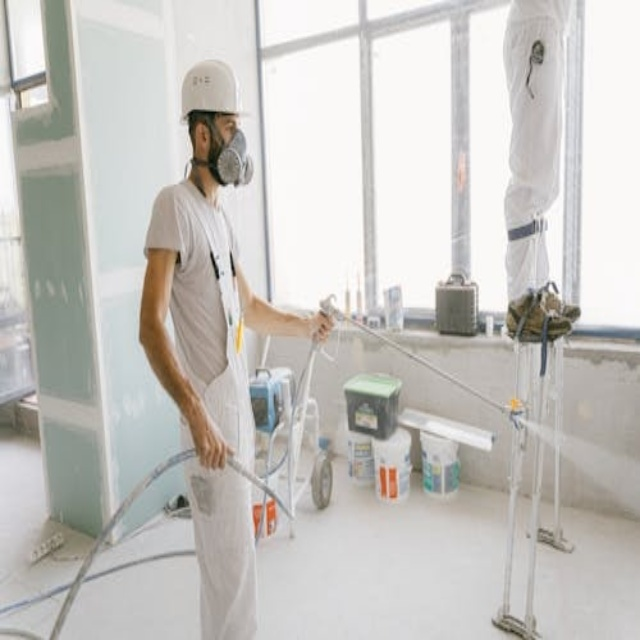Mascara: (212, 124, 253, 188)
Sin_gafas: (210, 113, 239, 133)
Sin_guantes: (189, 412, 229, 471), (305, 309, 334, 345)
